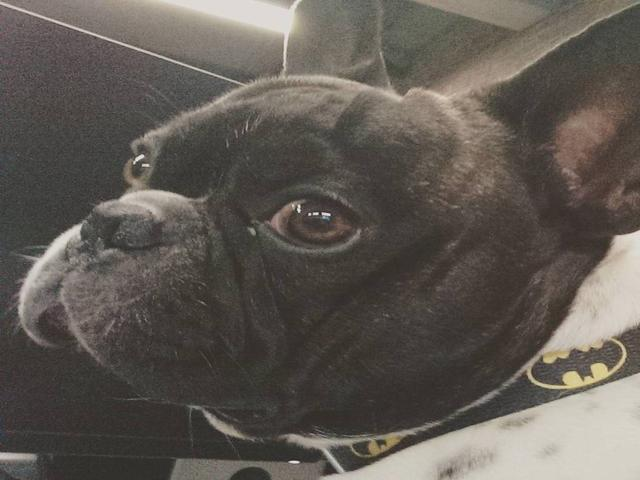dog: (14, 71, 593, 448)
